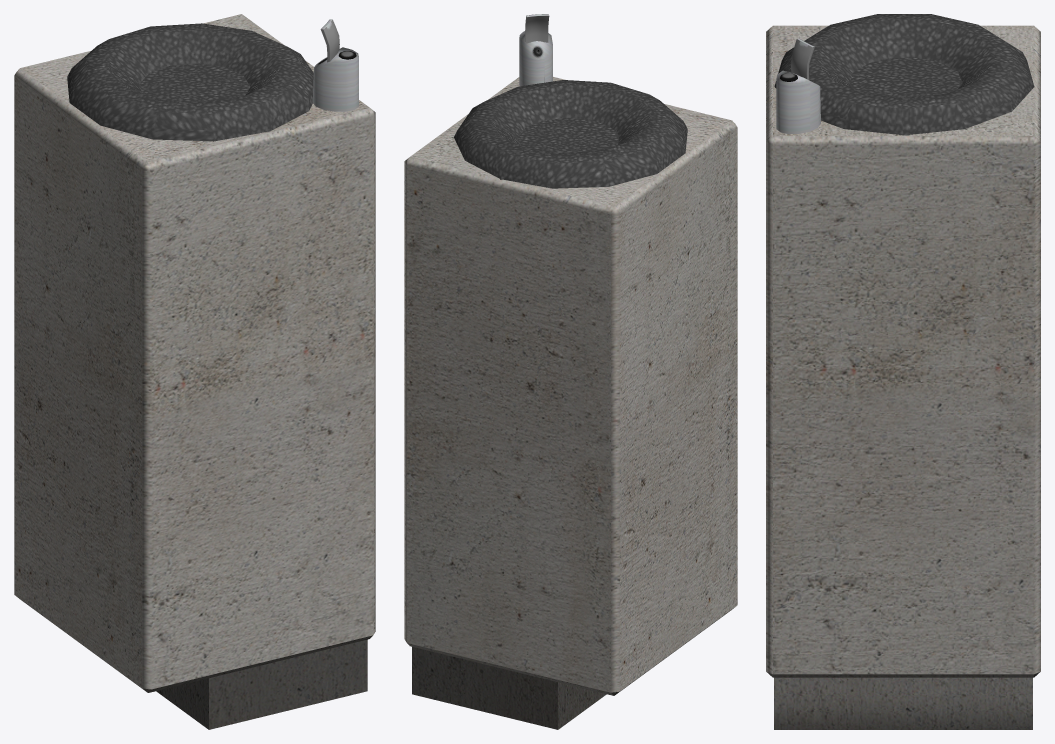
File: water_fountain.fbx
3 views of the same model, side by side, from view 1: azimuth 30°, elevation 25°; view 2: azimuth 150°, elevation 25°; view 3: azimuth 270°, elevation 25° (orthographic). The views are drawn at different scales.
Visible parts, largest first — view 1: polySurface1; view 2: polySurface1; view 3: polySurface1.
Boxes of the visible parts, bbox=[...] form: polySurface1: bbox=[14, 14, 375, 729]; polySurface1: bbox=[404, 14, 737, 729]; polySurface1: bbox=[766, 14, 1040, 729].
Size of the model in its own units: 23 by 62.31 by 23.
1 material, 1 textured.
